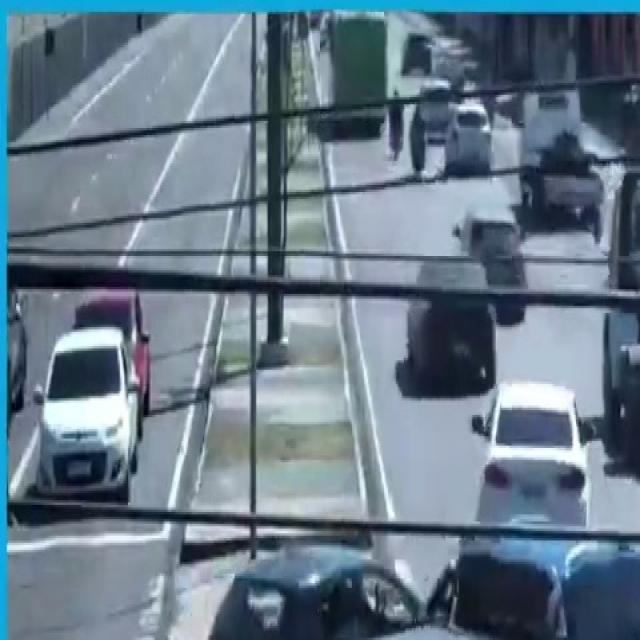car: (353, 526, 640, 640), (199, 540, 428, 640), (469, 366, 594, 534), (35, 318, 144, 508)
truck: (600, 164, 640, 472)
